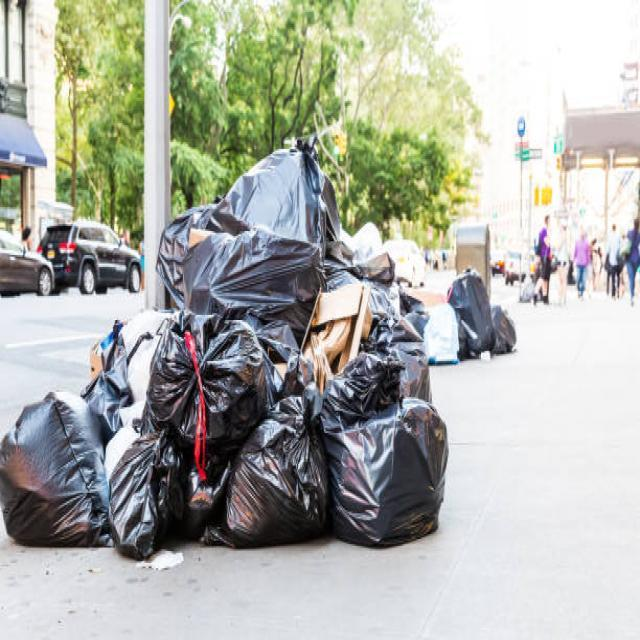garbage: (170, 130, 456, 569), (84, 308, 168, 568), (0, 393, 112, 556), (460, 270, 518, 357)
